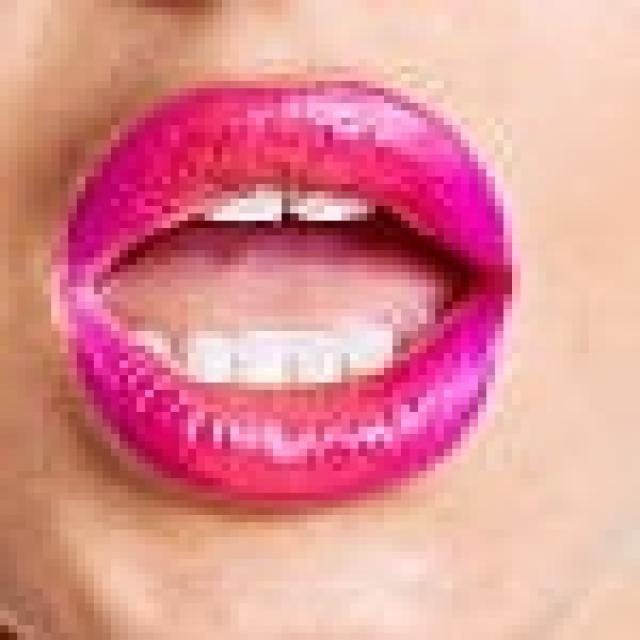open-mouth: (42, 66, 512, 508)
